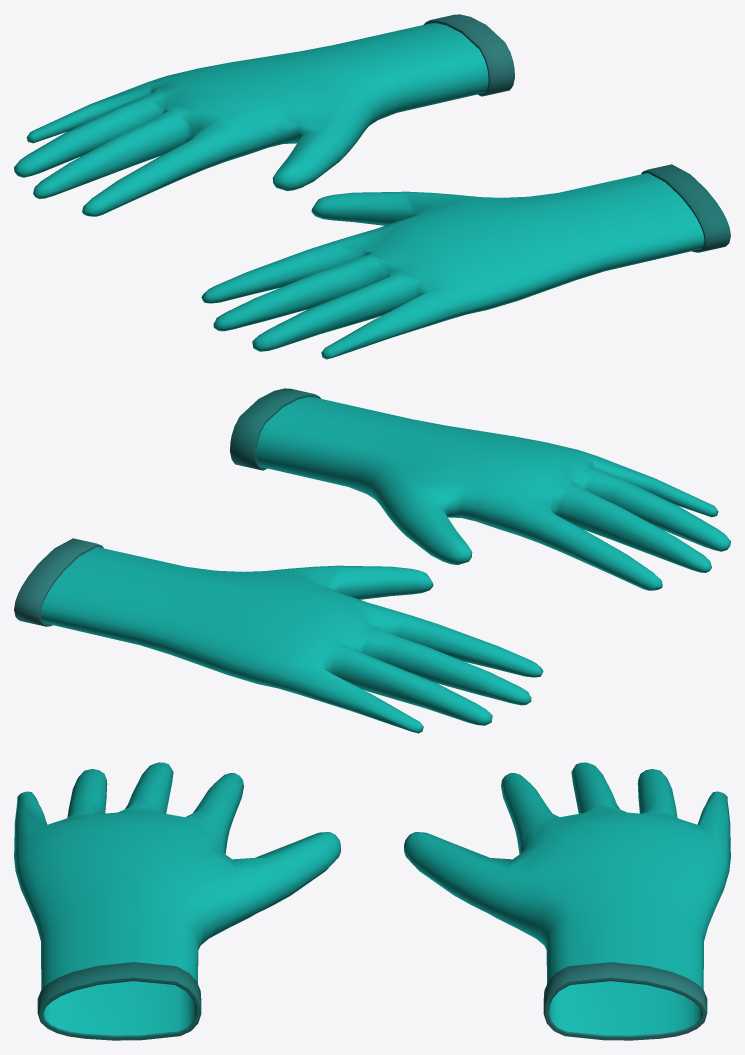
File: glove.fbx
3 views of the same model, one above another, from view 1: azimuth 30°, elevation 25°; view 2: azimuth 150°, elevation 25°; view 3: azimuth 270°, elevation 25° (orthographic). The views are drawn at different scales.
Visible parts, largest first — view 1: jueyuanshoutao_1806291438c.001, jueyuanshoutao_1806291438c; view 2: jueyuanshoutao_1806291438c, jueyuanshoutao_1806291438c.001; view 3: jueyuanshoutao_1806291438c.001, jueyuanshoutao_1806291438c.
Boxes of the visible parts, x1,y1,x2,y2 form: jueyuanshoutao_1806291438c.001: (201,164,730,359); jueyuanshoutao_1806291438c: (14,14,514,216); jueyuanshoutao_1806291438c: (14,538,543,733); jueyuanshoutao_1806291438c.001: (230,388,730,590); jueyuanshoutao_1806291438c.001: (14,762,340,1040); jueyuanshoutao_1806291438c: (404,762,730,1040).
Bounding box in the file's own units: 283 × 33.8 × 322.
